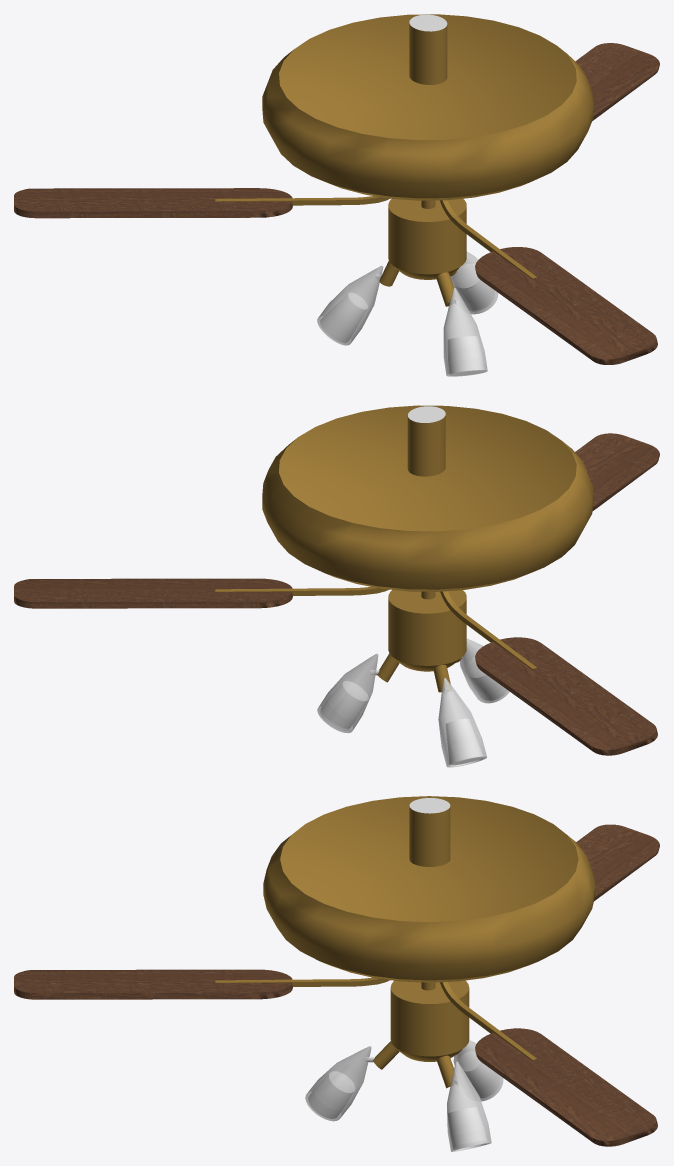
Rendered from ventilo (1).glb.
3 views of the same model, one above another, from view 1: azimuth 30°, elevation 25°; view 2: azimuth 150°, elevation 25°; view 3: azimuth 270°, elevation 25° (orthographic).
Visible parts, largest first — view 1: Cylinder; view 2: Cylinder; view 3: Cylinder.
Boxes of the visible parts, bbox=[...] form: Cylinder: bbox=[14, 14, 659, 376]; Cylinder: bbox=[14, 405, 659, 767]; Cylinder: bbox=[14, 796, 659, 1151].
Bounding box in the file's own units: 0.6021 × 0.29 × 0.5273.
Materials: 5 (1 with a texture image).
